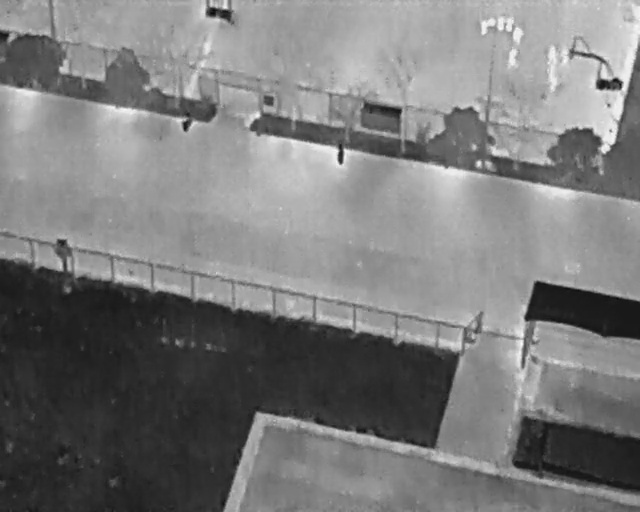Bicycle: (177, 111, 196, 135), (334, 140, 345, 166)
Person: (505, 46, 522, 71), (546, 73, 561, 95), (510, 24, 524, 46), (548, 44, 557, 65), (560, 46, 569, 65), (496, 15, 506, 32), (479, 20, 489, 37), (548, 64, 557, 81), (505, 15, 514, 32), (487, 16, 497, 29)
